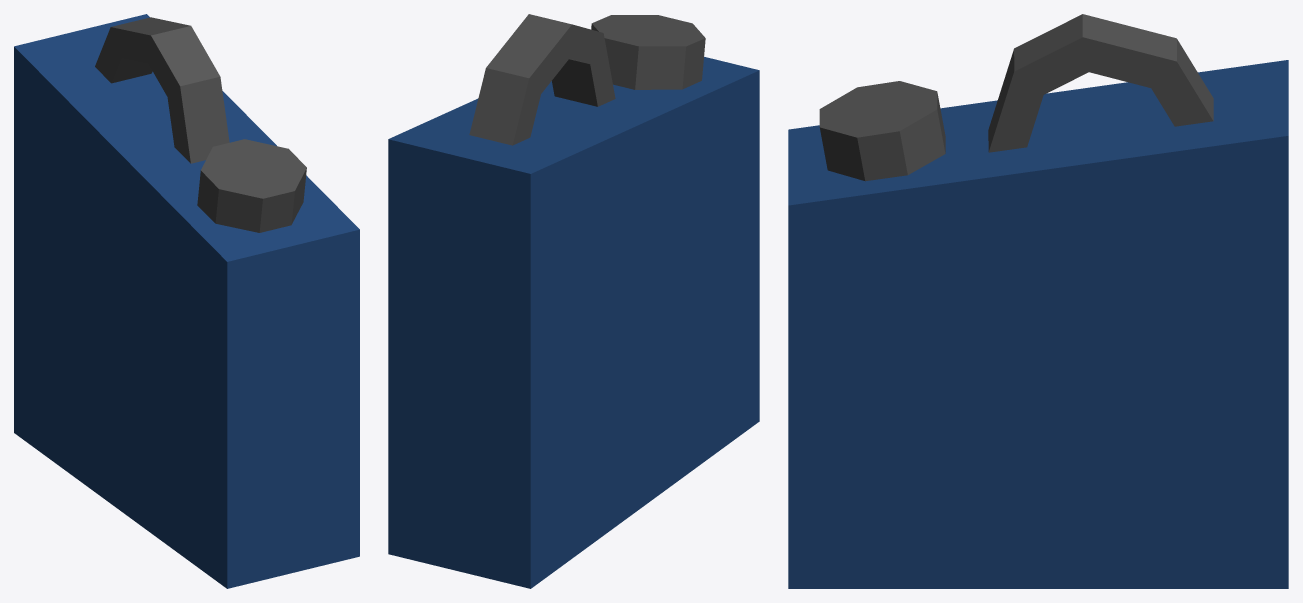
3 views of the same model, side by side, from view 1: azimuth 30°, elevation 25°; view 2: azimuth 150°, elevation 25°; view 3: azimuth 270°, elevation 25° (orthographic). The views are drawn at different scales.
Visible parts, largest first — view 1: G-21; view 2: G-21; view 3: G-21.
Part boxes in pixels (bbox=[...]): G-21: bbox=[14, 14, 359, 588]; G-21: bbox=[388, 14, 759, 588]; G-21: bbox=[788, 14, 1288, 588].
Bounding box in the file's own units: 31.37 × 102 × 87.26.
